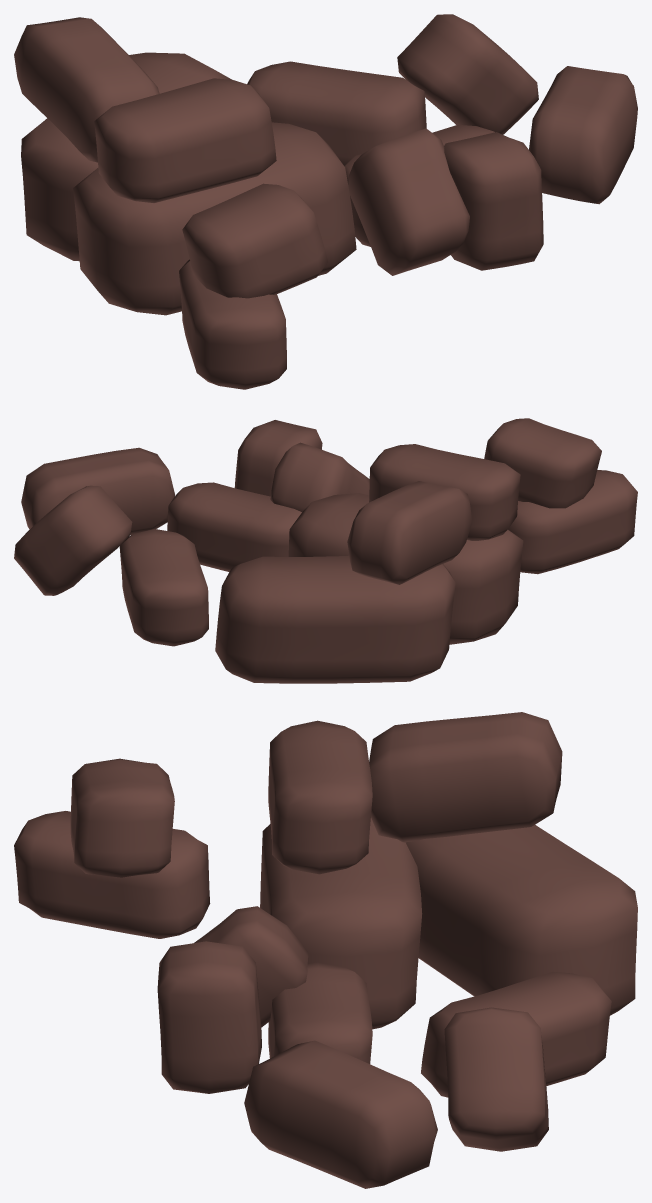
File: StoneZ2.FBX
3 renders of one model, top to bottom at view 1: azimuth 30°, elevation 25°; view 2: azimuth 150°, elevation 25°; view 3: azimuth 270°, elevation 25°, orthographic. The views are drawn at different scales.
Visible parts, largest first — view 1: StoneZ; view 2: StoneZ; view 3: StoneZ.
Part boxes in pixels (x1,y1,x2,y2): StoneZ: (14,14,637,389); StoneZ: (14,418,637,683); StoneZ: (14,712,637,1188).
Size of the model in its own units: 7.38 by 2.57 by 6.42.
